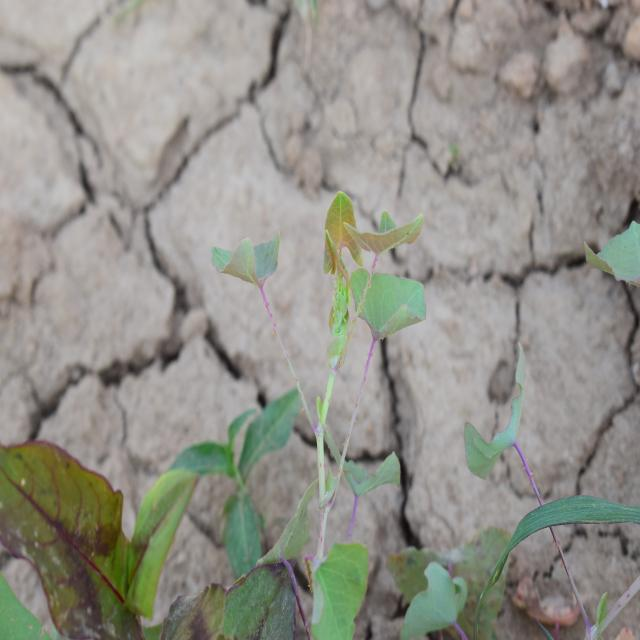Asiatic_Smartweed: (213, 186, 425, 600)
